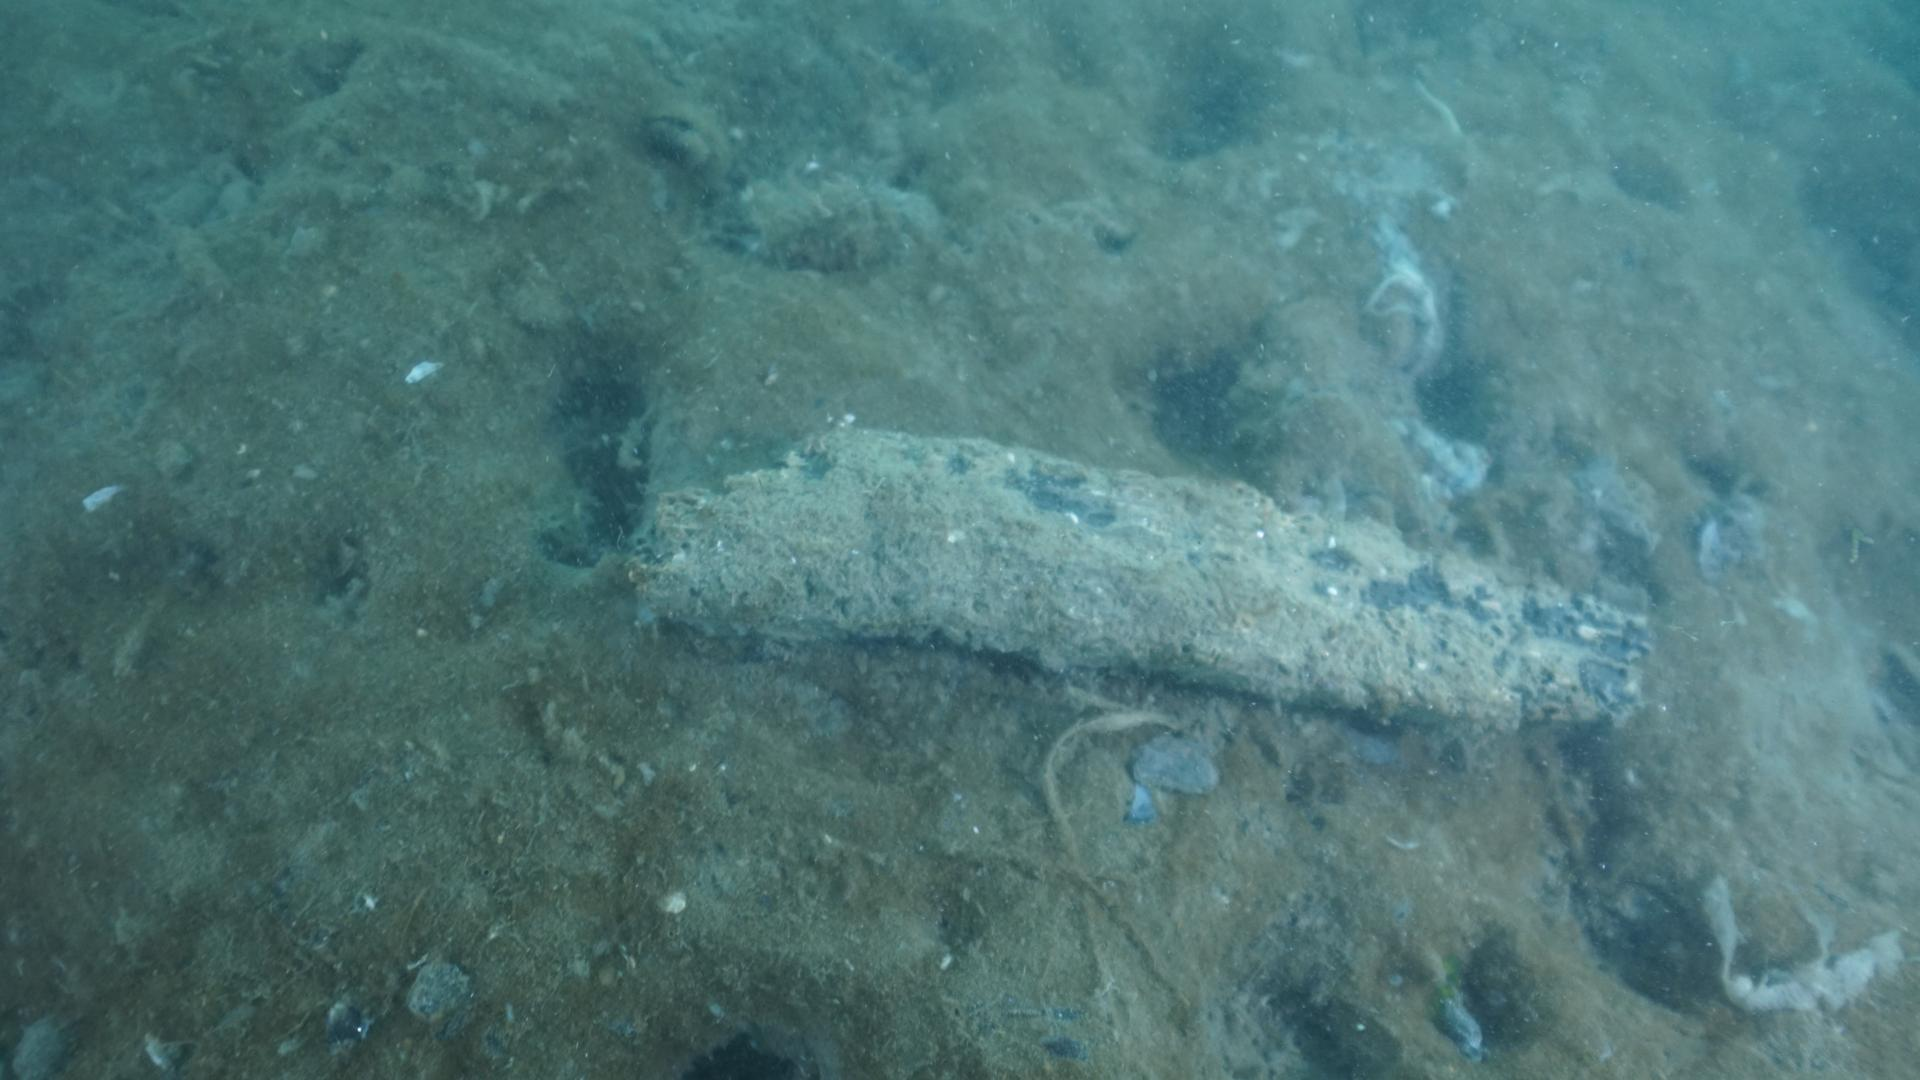wood: (618, 421, 1662, 742)
